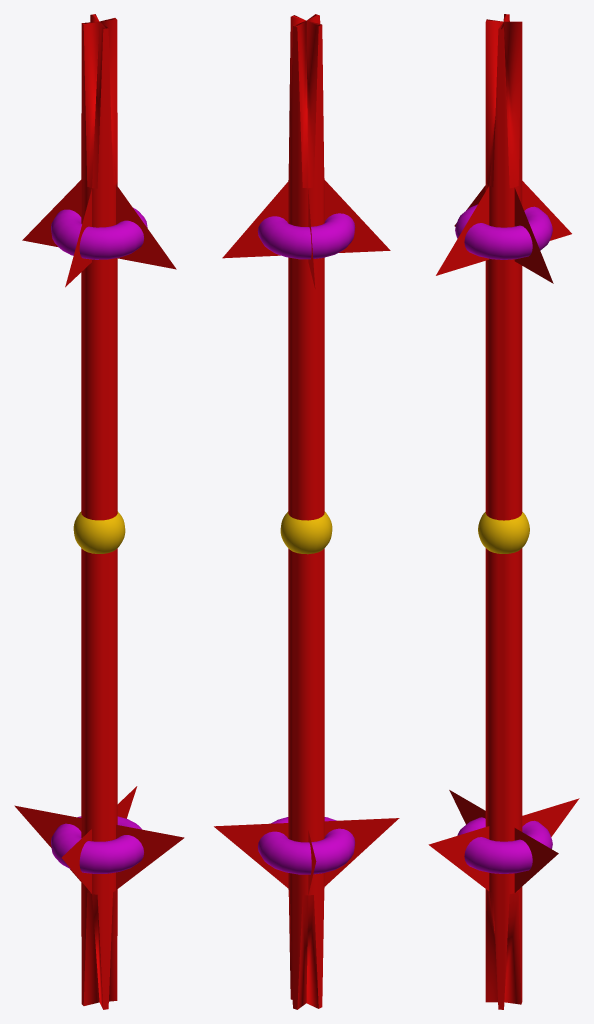
The model's file is Staff_Of_Eruptions_Final2.fbx.
3 renders of one model, left to right at view 1: azimuth 30°, elevation 25°; view 2: azimuth 150°, elevation 25°; view 3: azimuth 270°, elevation 25°, orthographic.
Parts seen in each view (by area): view 1: pCylinder2; view 2: pCylinder2; view 3: pCylinder2.
Boxes of the visible parts, box(x1,y1,x2,y2) form: pCylinder2: box(14, 14, 184, 1009); pCylinder2: box(214, 14, 399, 1009); pCylinder2: box(428, 14, 579, 1009).
Size of the model in its own units: 0.7057 by 5.05 by 0.7057.
